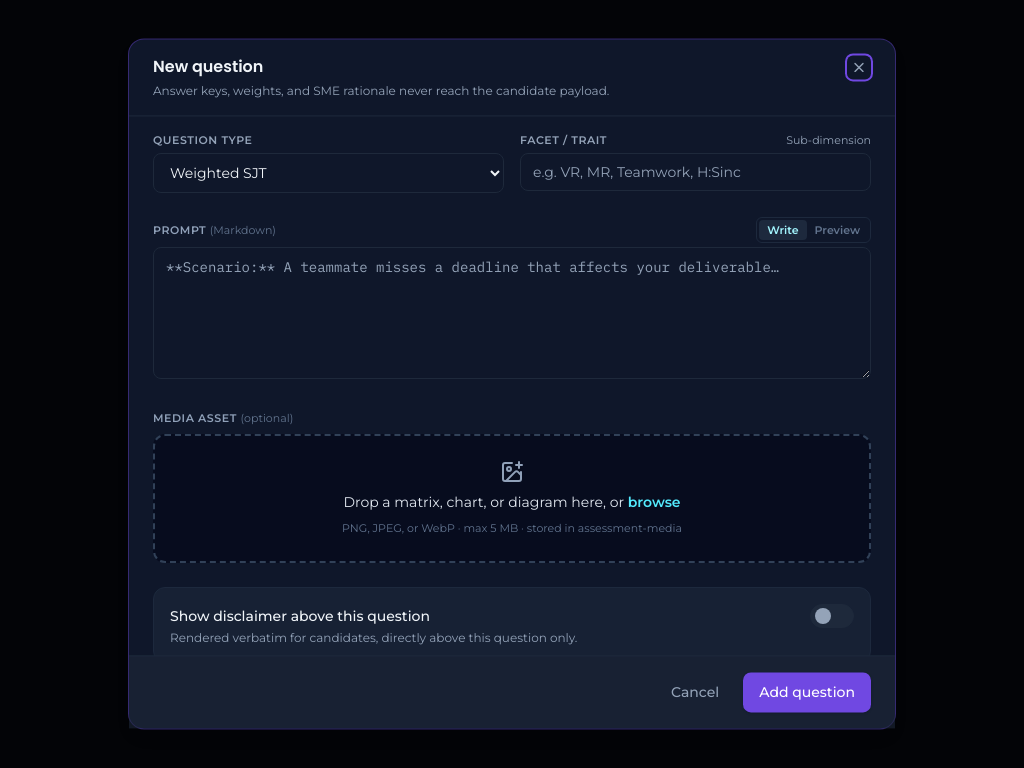
Scenario: QuestionEditorModal › offers the likert reverse-scoring toggle and only technical types for technical modules
Select "Likert Scale" in the dropdown labelled "Question type" at (328, 173), box top-left (153, 153), bottom-right (504, 193)
(page scrolled)
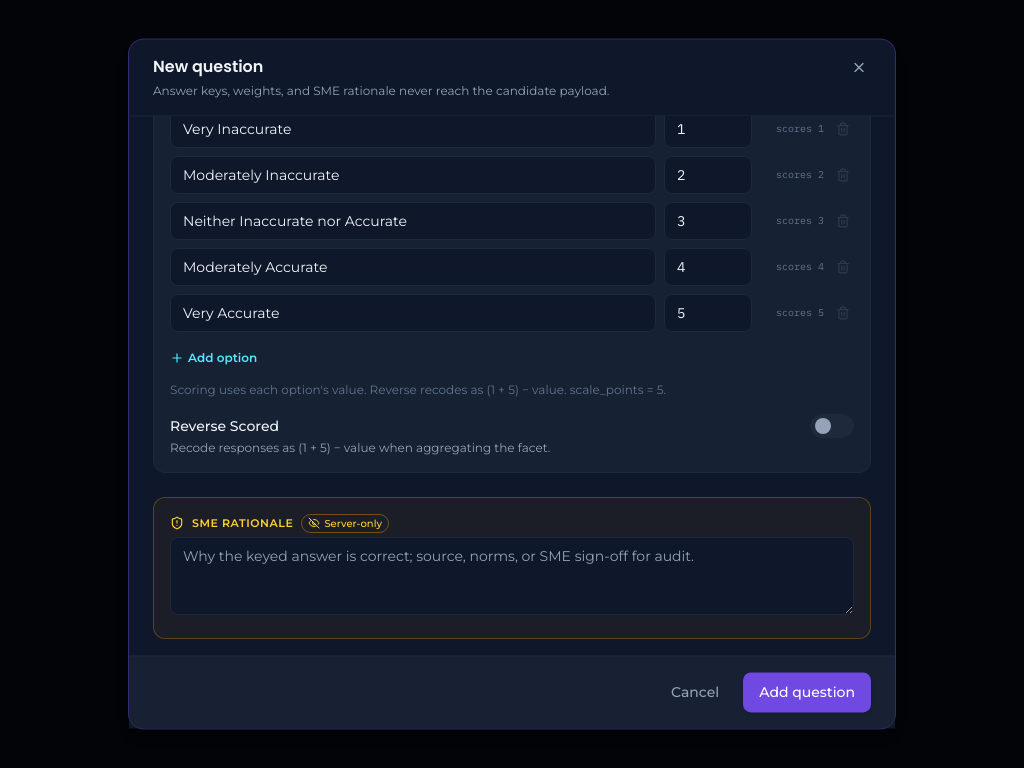
Click the switch named "Reverse Scored".
click(832, 426)  # box top-left (810, 414), bottom-right (854, 438)
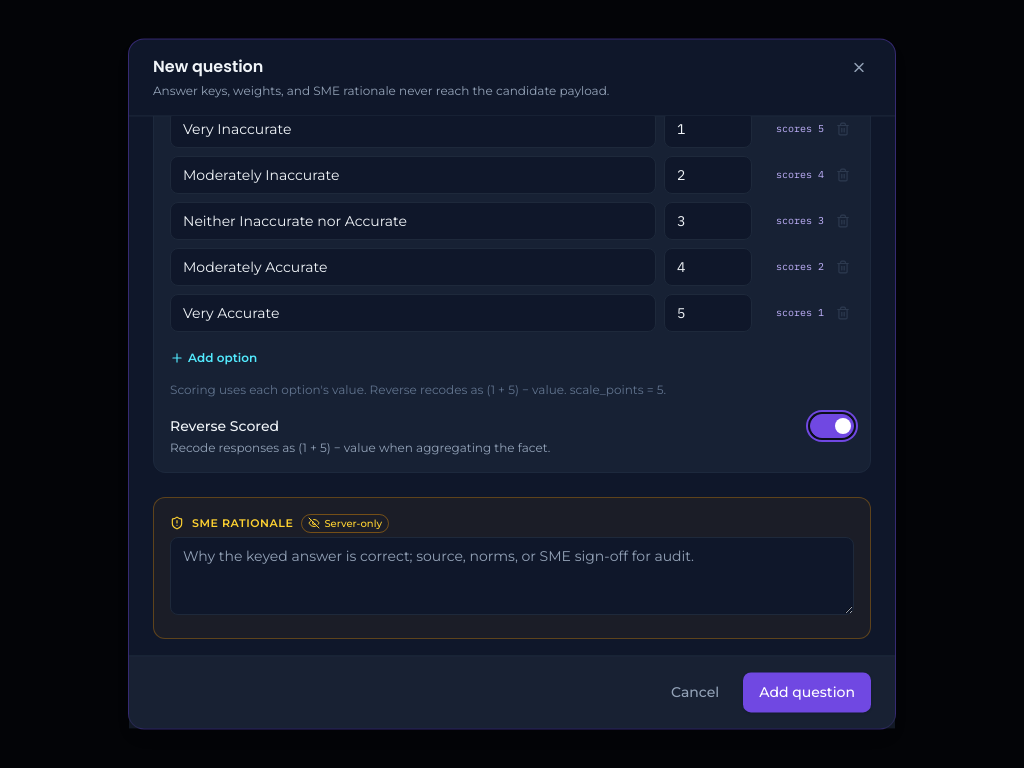
Expected: the text "scores 5" is shown, top-left (776, 123), bottom-right (824, 136)
